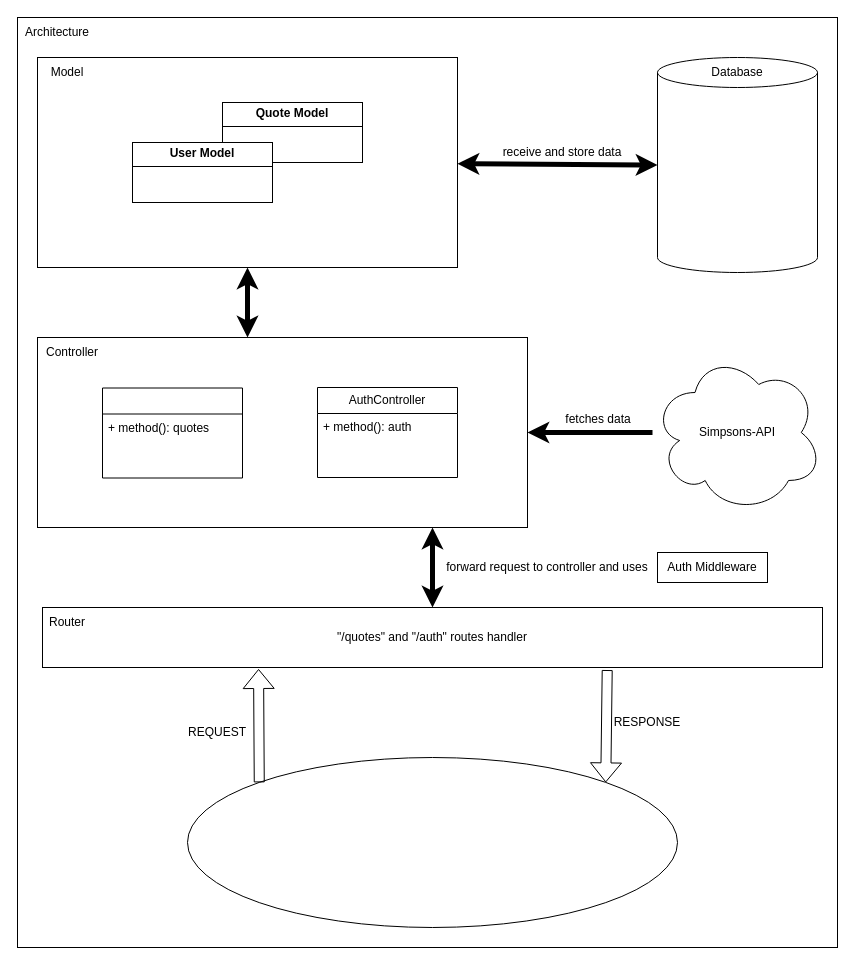
The diagram is 855 pixels wide and 965 high, and some of its shapes have lost their labels. Here are the shapes that lost their labels. From the top down, the box of each, then its label:
(656, 56, 818, 272): - users - quotes - personal_tokens ...
(102, 387, 242, 478): QuoteController
(186, 756, 678, 928): Angular/Vue/React Frontend
